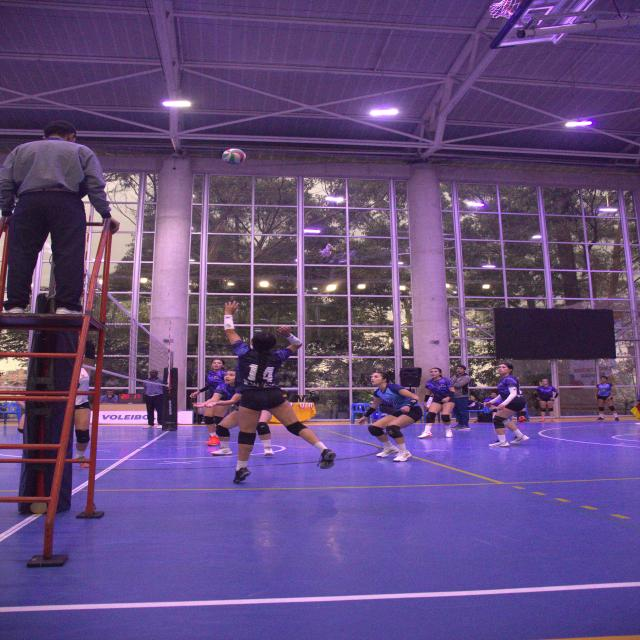volleyball: (222, 148, 246, 165)
